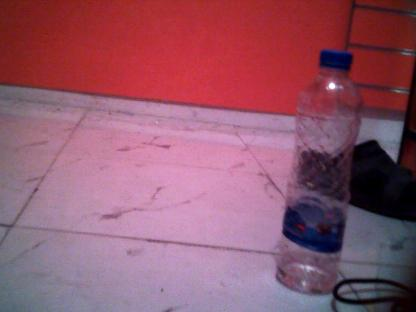Plastic Bottle: (274, 50, 364, 296)
